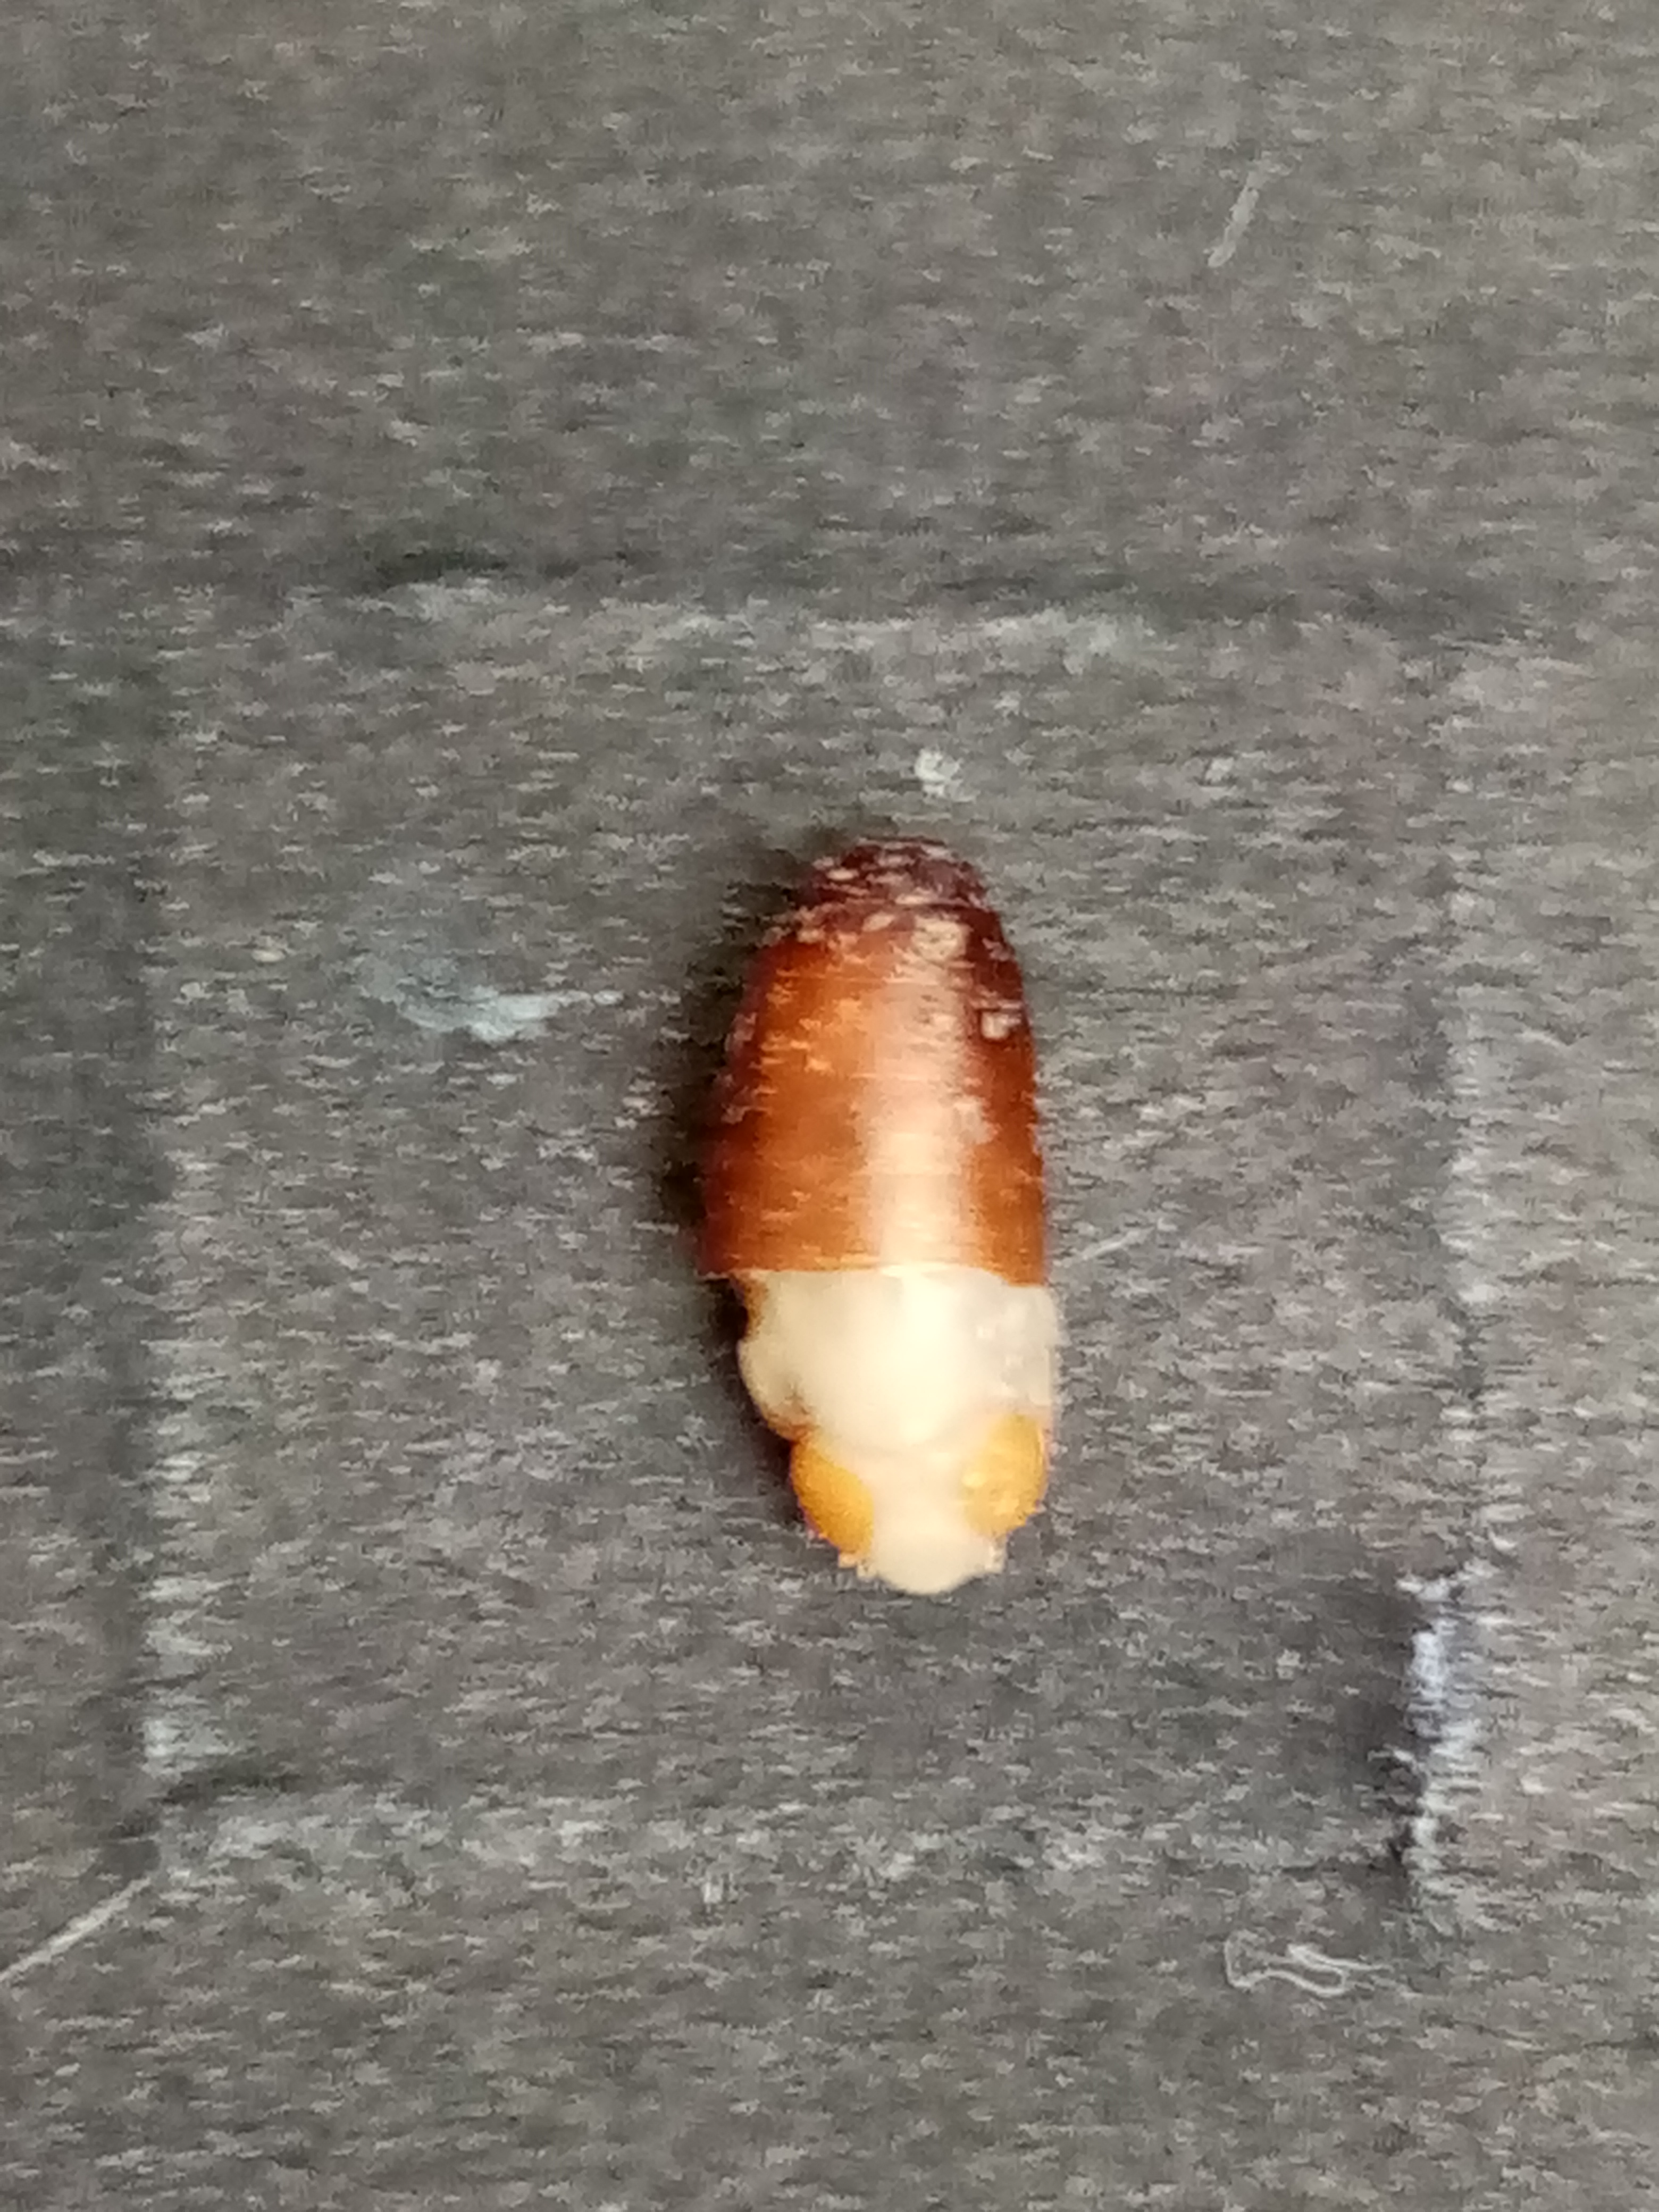pupa: (725, 1275, 1075, 1594)
